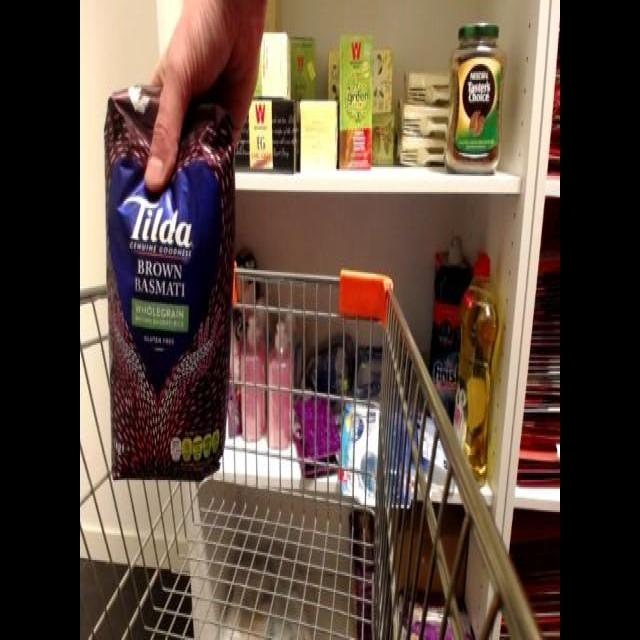Tida: (104, 71, 240, 498)
